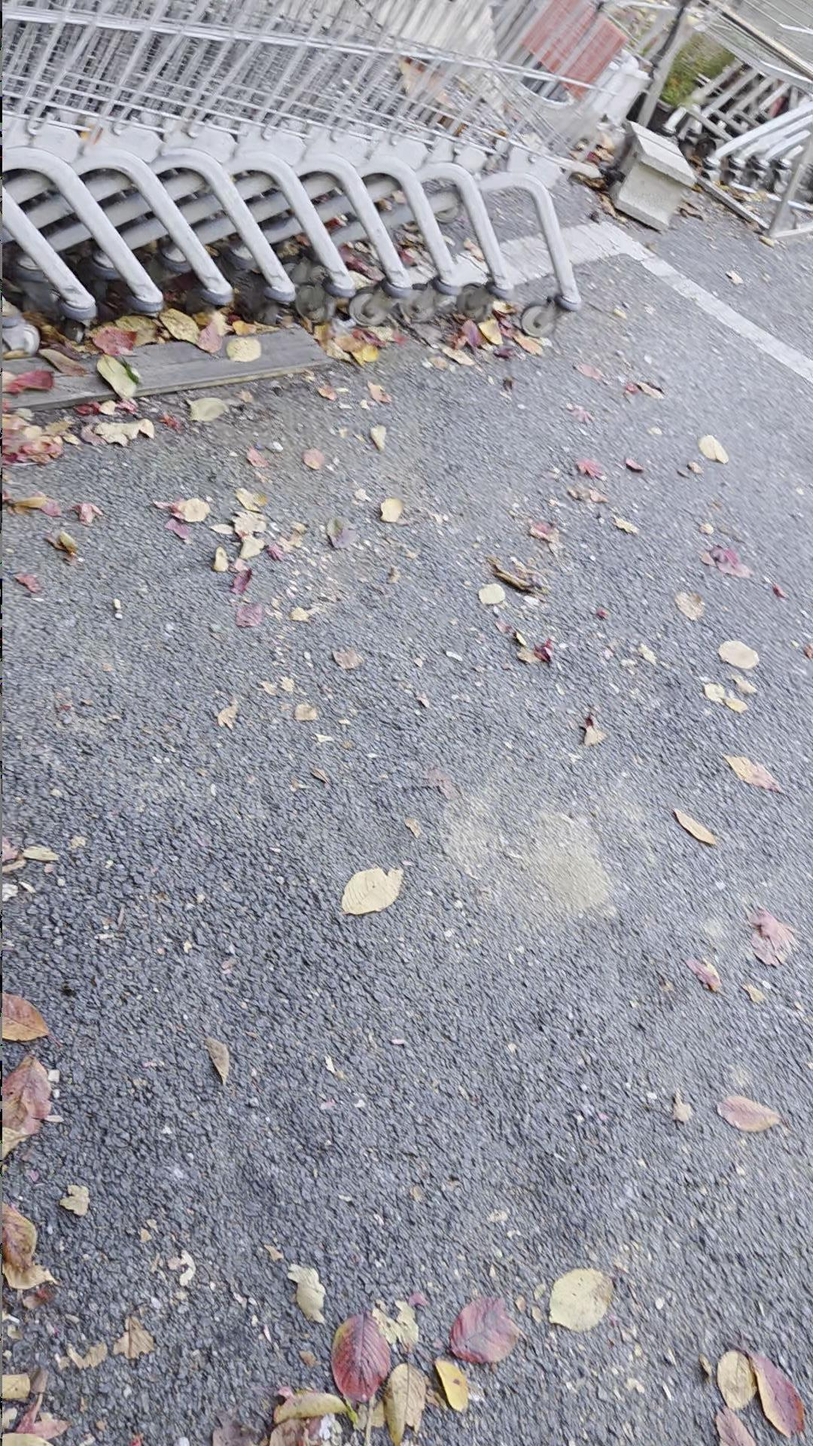combined_cart: (0, 0, 738, 359)
